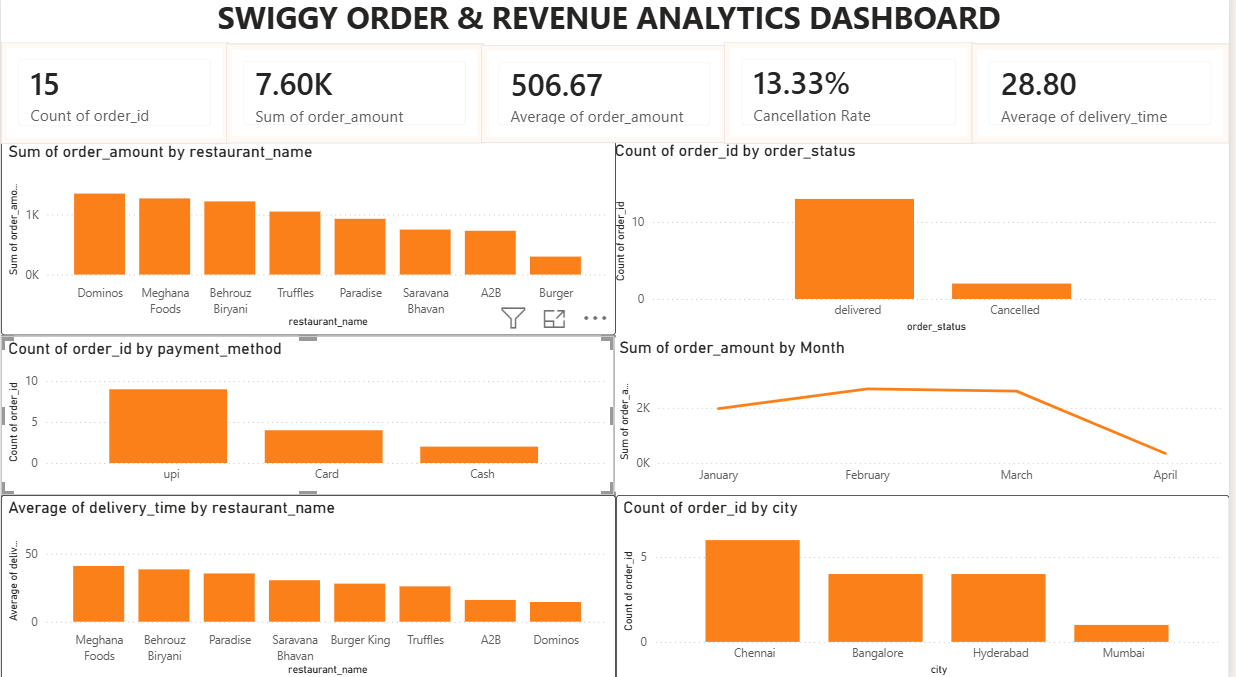

The page's visual inventory and layout, read from the dashboard file:
{"tool":"powerbi","page":{"name":"Page 1","canvas":[1280,720],"ordinal":0},"visuals":[{"type":"clusteredColumnChart","fields":{"Category":["swiggy_analytics orders.order_status"],"Y":["CountNonNull(swiggy_analytics orders.order_id)"]},"box":[634.7,156,639.4,203.6],"z":0},{"type":"clusteredColumnChart","fields":{"Category":["swiggy_analytics restaurants.restaurant_name"],"Y":["Sum(swiggy_analytics orders.order_amount)"]},"box":[0,154.7,640.6,204.1],"z":1},{"type":"cardVisual","fields":{"Data":["CountNonNull(swiggy_analytics orders.order_id)"]},"box":[0,53.1,237.6,106.3],"z":3},{"type":"cardVisual","fields":{"Data":["Sum(swiggy_analytics orders.order_amount)"]},"box":[234.5,55,268.3,103.9],"z":4},{"type":"cardVisual","fields":{"Data":["Avg(swiggy_analytics orders.order_amount)"]},"box":[499.7,56.9,257,102],"z":5},{"type":"cardVisual","fields":{"Data":["swiggy_analytics orders.Cancellation Rate"]},"box":[753.6,53.1,260.8,105.8],"z":6},{"type":"cardVisual","fields":{"Data":["Avg(swiggy_analytics orders.delivery_time)"]},"box":[1011.3,55,268.3,103.9],"z":7},{"type":"clusteredColumnChart","fields":{"Category":["swiggy_analytics orders.payment_method"],"Y":["CountNonNull(swiggy_analytics orders.order_id)"]},"box":[0,359.5,639.3,165.7],"z":8},{"type":"lineChart","fields":{"Category":["swiggy_analytics orders.order_date.Variation.Date Hierarchy.Month"],"Y":["Sum(swiggy_analytics orders.order_amount)"]},"box":[639.3,361.1,640.8,161],"z":9},{"type":"clusteredColumnChart","fields":{"Category":["swiggy_analytics restaurants.restaurant_name"],"Y":["Avg(swiggy_analytics orders.delivery_time)"]},"box":[0,525.2,640.8,195.4],"z":10},{"type":"clusteredColumnChart","fields":{"Category":["swiggy_analytics restaurants.city"],"Y":["CountNonNull(swiggy_analytics orders.order_id)"]},"box":[640.8,525.2,639.3,195.4],"z":11},{"type":"textbox","box":[0,0,1280.1,53.1],"z":14}]}

Visuals, with their boxes in screenshot pixels (x1, y1, x2, y2), scaled from the page's 1280x720 canvas onto the 1236x677 screenshot:
clusteredColumnChart - swiggy_analytics orders.order_status x CountNonNull(swiggy_analytics orders.order_id): 613 147 1230 338
clusteredColumnChart - swiggy_analytics restaurants.restaurant_name x Sum(swiggy_analytics orders.order_amount): 0 145 619 337
cardVisual - CountNonNull(swiggy_analytics orders.order_id): 0 50 229 150
cardVisual - Sum(swiggy_analytics orders.order_amount): 226 52 486 149
cardVisual - Avg(swiggy_analytics orders.order_amount): 483 54 731 149
cardVisual - swiggy_analytics orders.Cancellation Rate: 728 50 980 149
cardVisual - Avg(swiggy_analytics orders.delivery_time): 977 52 1235 149
clusteredColumnChart - swiggy_analytics orders.payment_method x CountNonNull(swiggy_analytics orders.order_id): 0 338 617 494
lineChart - swiggy_analytics orders.order_date.Variation.Date Hierarchy.Month x Sum(swiggy_analytics orders.order_amount): 617 340 1235 491
clusteredColumnChart - swiggy_analytics restaurants.restaurant_name x Avg(swiggy_analytics orders.delivery_time): 0 494 619 676
clusteredColumnChart - swiggy_analytics restaurants.city x CountNonNull(swiggy_analytics orders.order_id): 619 494 1235 676
textbox: 0 0 1235 50
